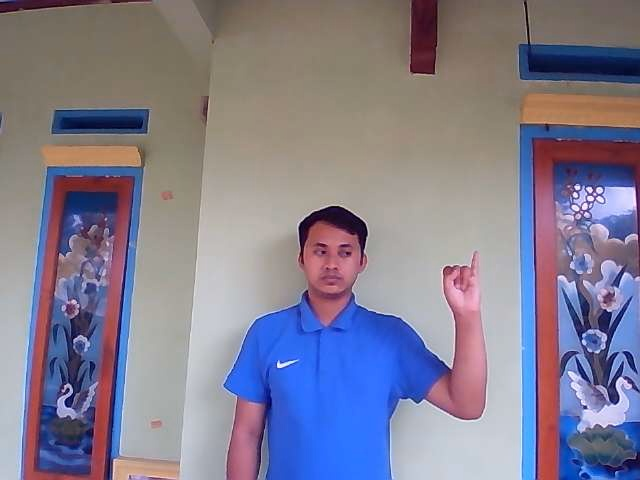I: (441, 249, 480, 313)
